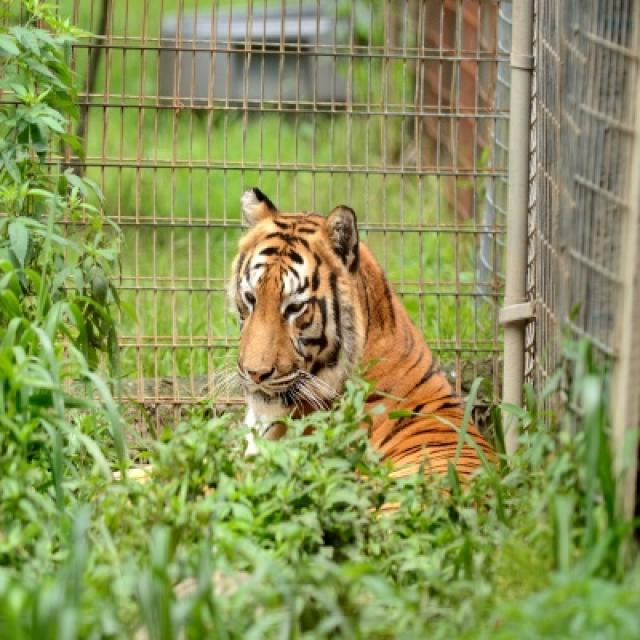Tiger: (236, 195, 485, 517)
